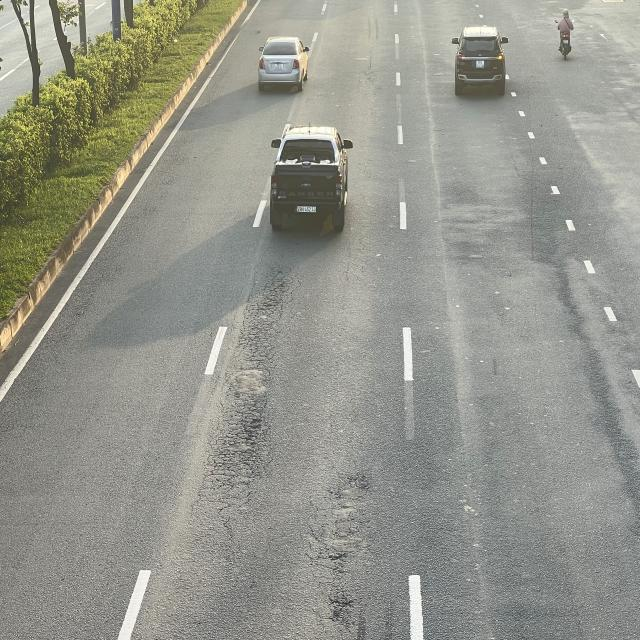car: (270, 124, 356, 230), (450, 26, 507, 98), (256, 37, 309, 92)
